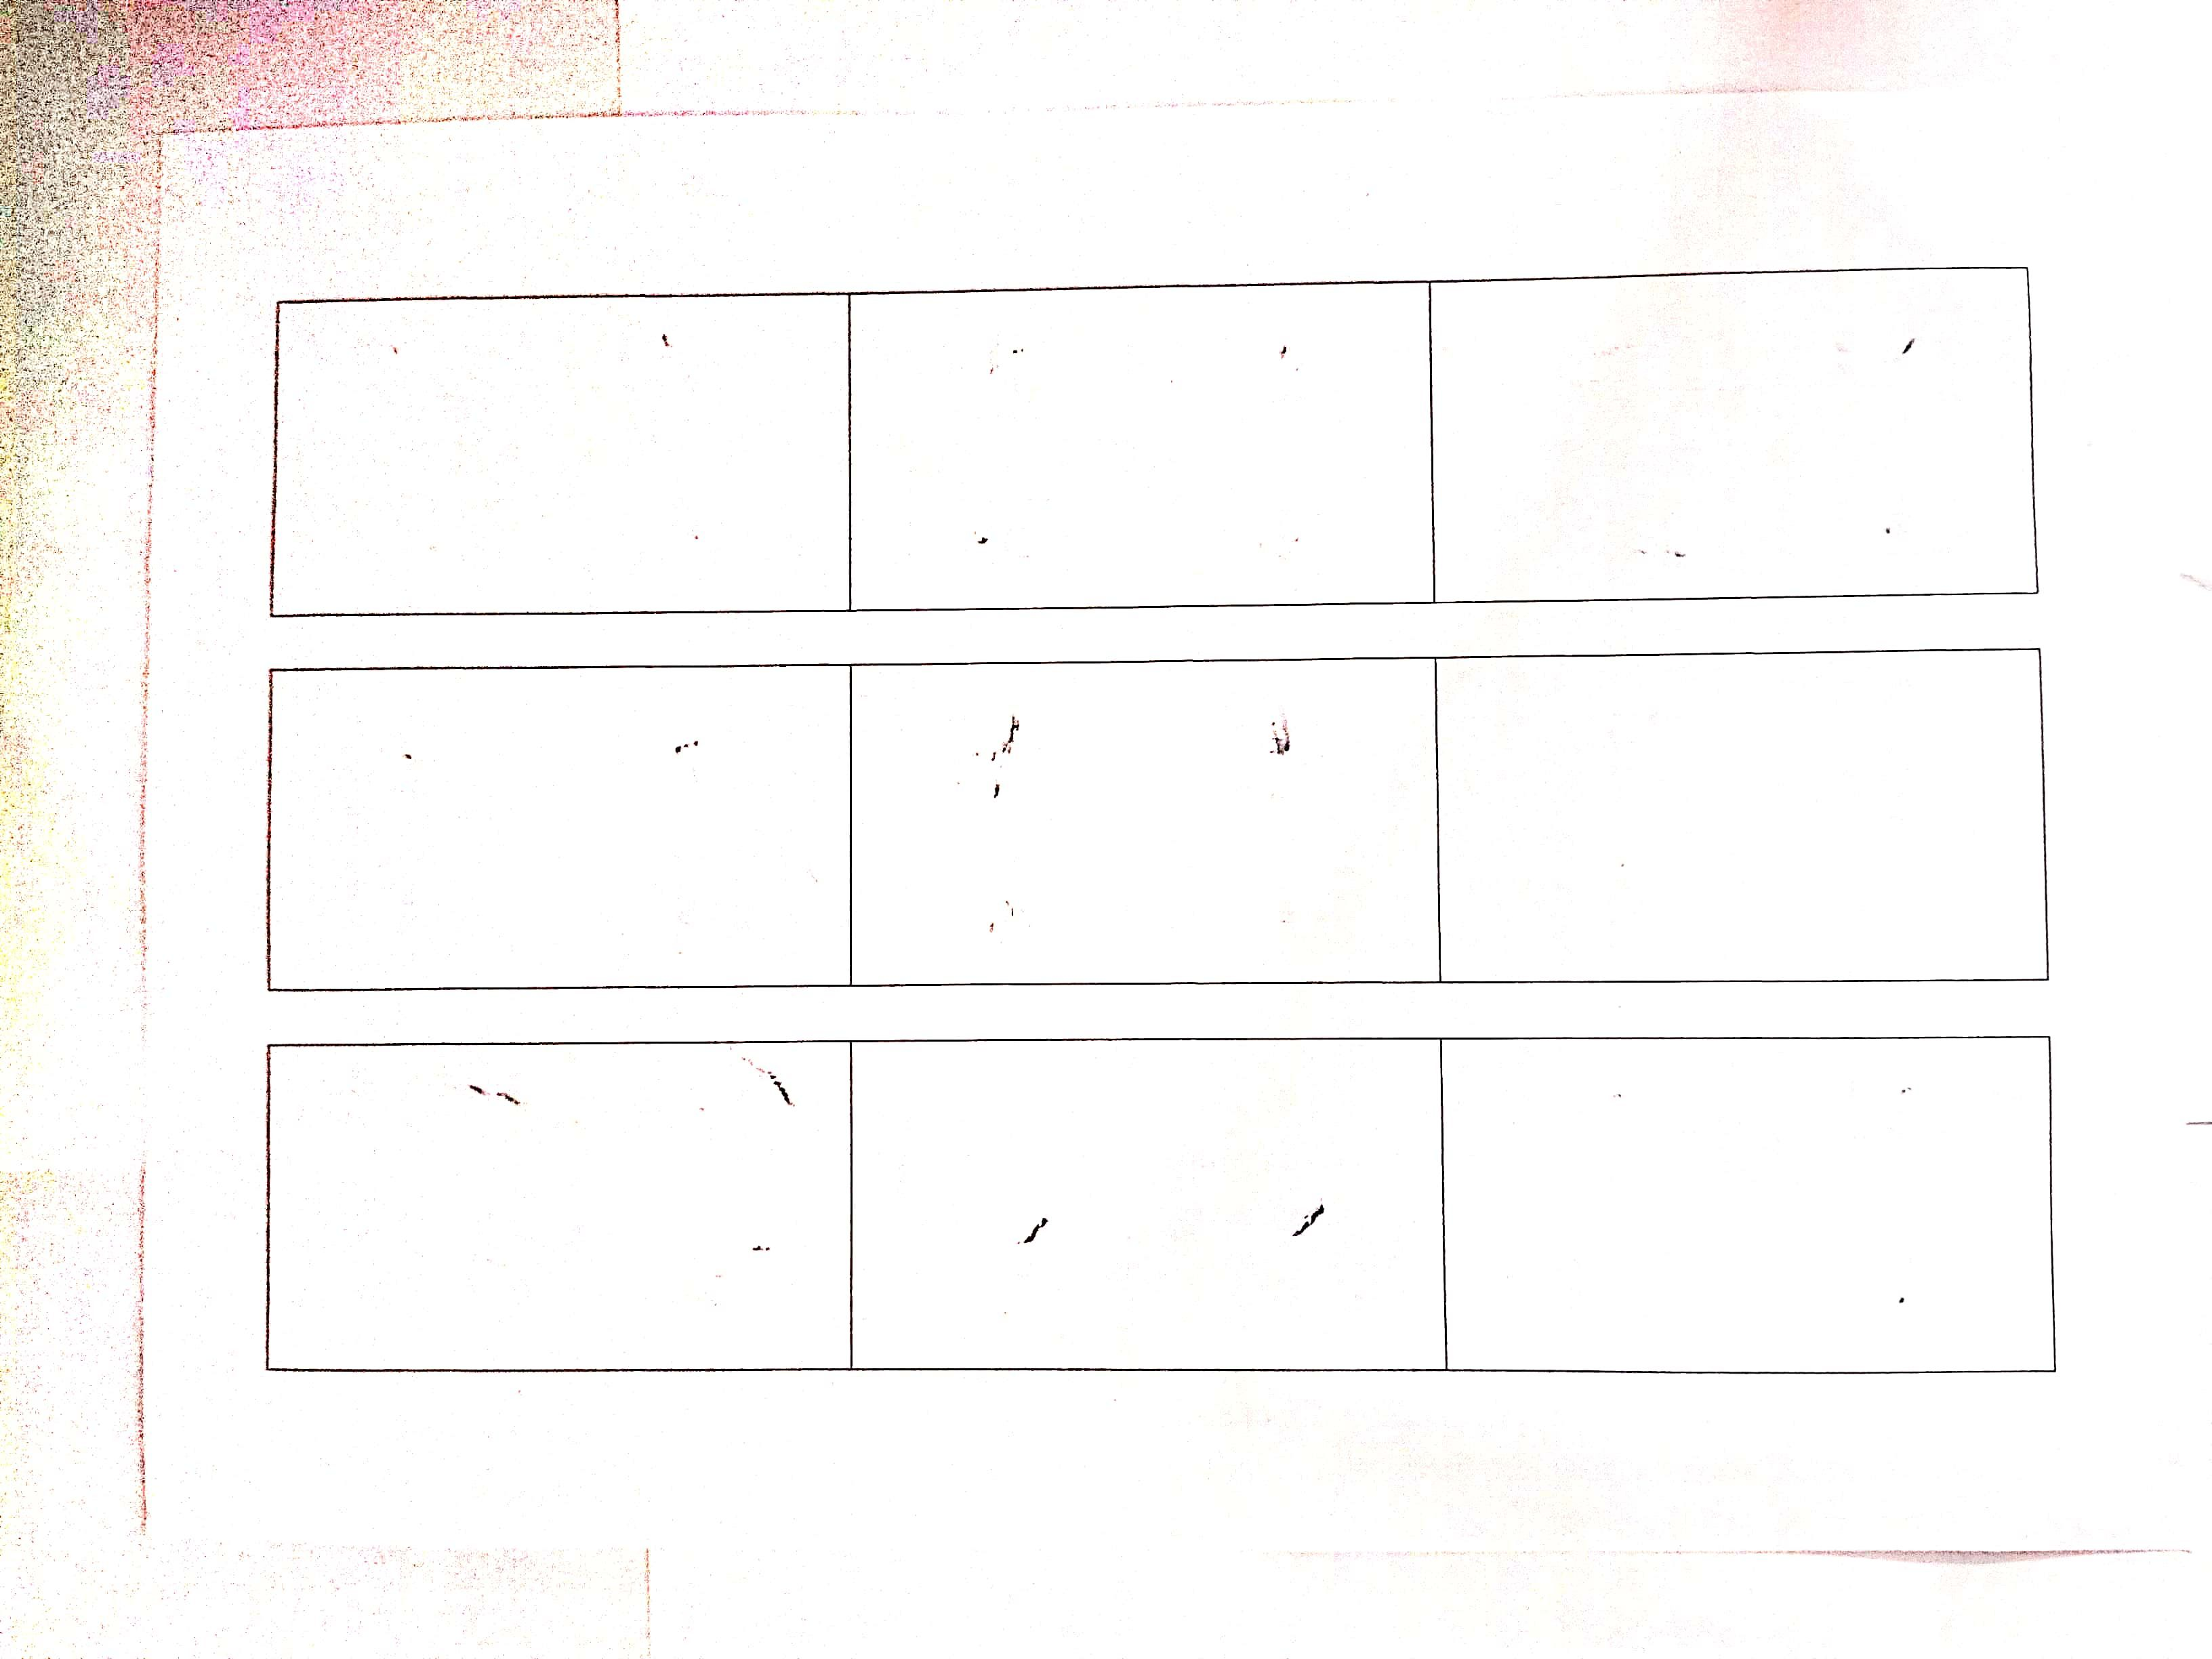Free: (1440, 641, 2045, 985), (1454, 1028, 2045, 1370), (845, 657, 1440, 988), (853, 1044, 1449, 1370), (1442, 272, 2034, 593), (270, 1046, 852, 1363), (273, 300, 845, 615), (270, 674, 848, 983), (853, 293, 1428, 598)
